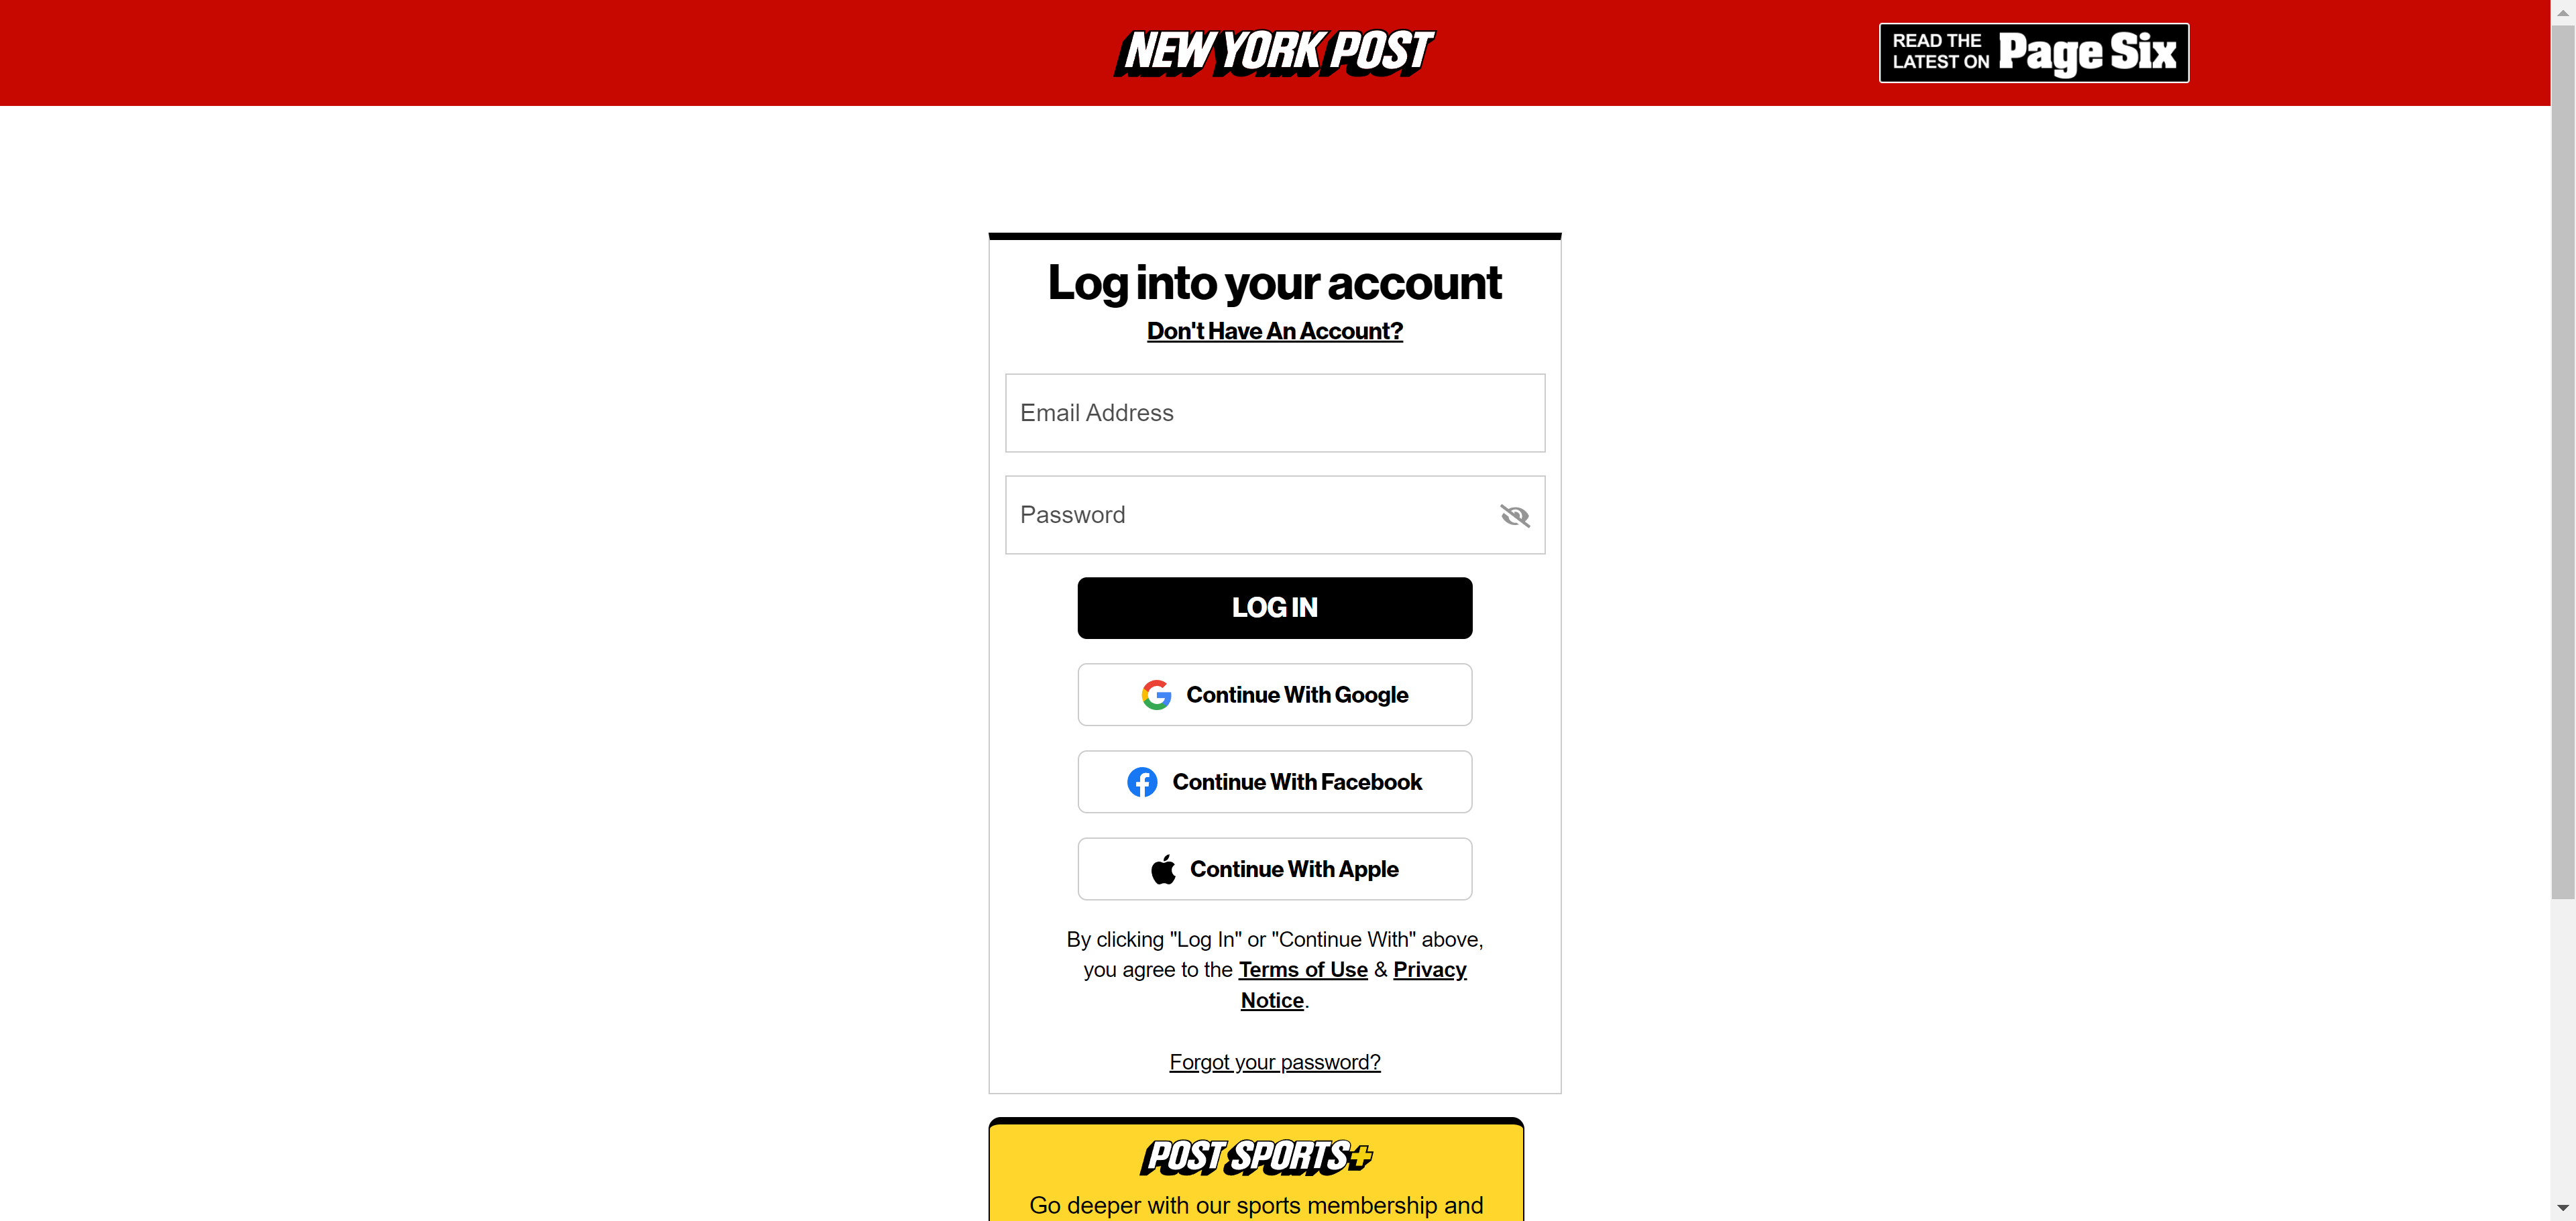login_button: (1078, 577, 1474, 638)
login_form: (997, 365, 1554, 649)
